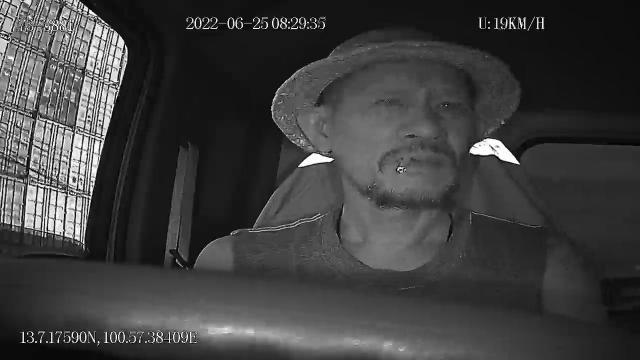SafeDriving: (369, 90, 412, 116), (428, 93, 464, 120)
Smoking: (396, 154, 410, 174)
